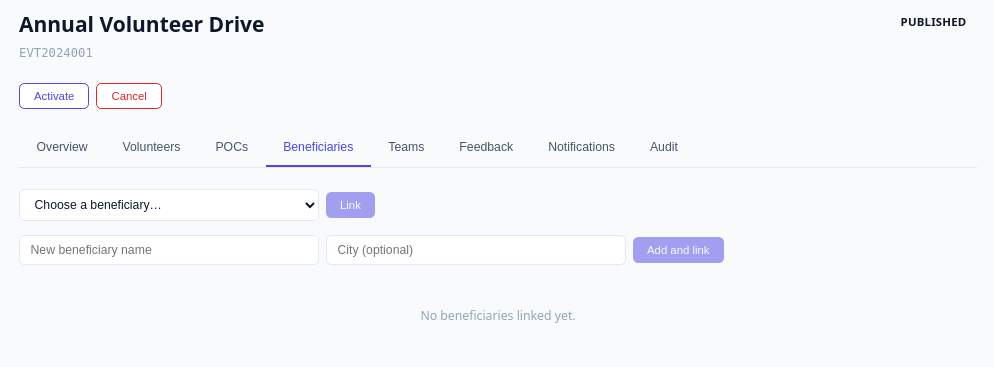
EventDetailContent › POCs and beneficiaries › creates a new beneficiary and links it to the event
Type "Harbour Trust" into the field labelled "New beneficiary name" at (169, 250), box [19,235,319,265]
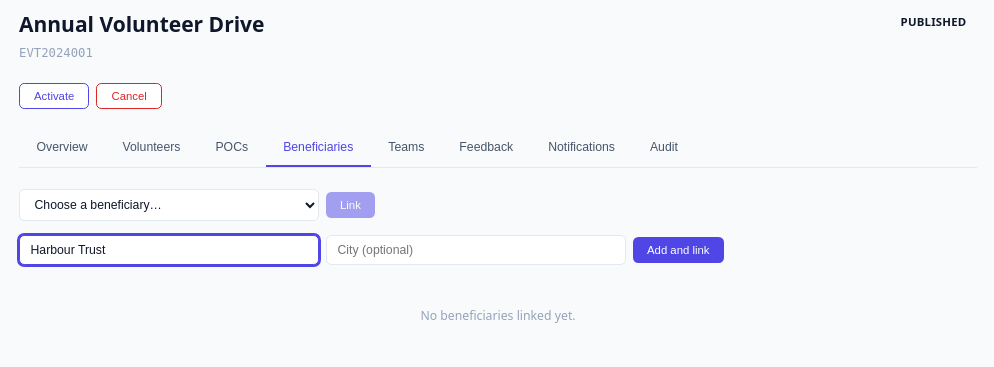
Type "Kochi" into the field named "New beneficiary city" at (476, 250), box [326,235,626,265]
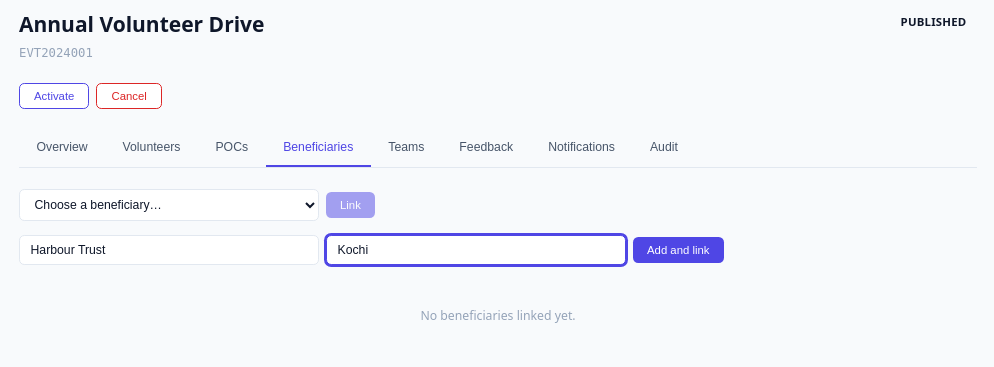
Click the button "Add and link" at (678, 250), box [633,237,724,263]
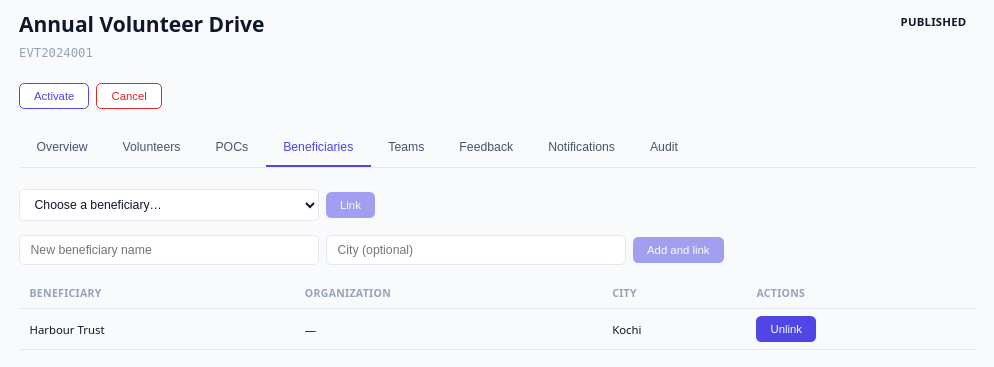
Result: the text "Harbour Trust" is shown at [19,309,294,350]
